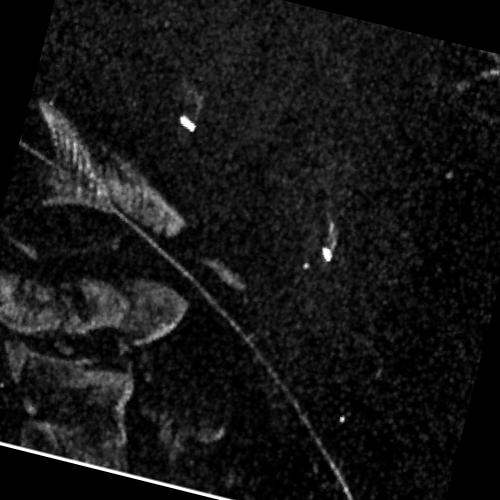ship: (179, 114, 196, 131), (322, 246, 332, 262)
